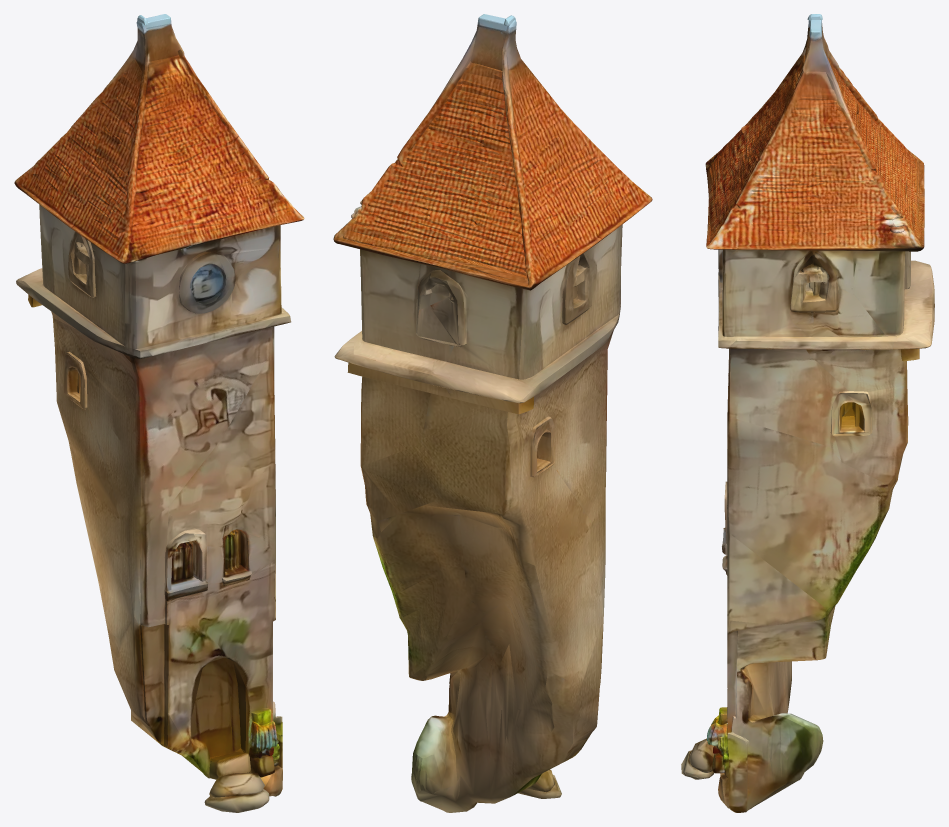
3 views of the same model, side by side, from view 1: azimuth 30°, elevation 25°; view 2: azimuth 150°, elevation 25°; view 3: azimuth 270°, elevation 25° (orthographic). The views are drawn at different scales.
Visible parts, largest first — view 1: model; view 2: model; view 3: model.
Boxes of the visible parts, bbox=[...] form: model: bbox=[14, 14, 304, 812]; model: bbox=[333, 14, 652, 812]; model: bbox=[681, 14, 934, 812].
Size of the model in its own units: 0.4801 by 1.9 by 0.578.
Materials: 1 (1 with a texture image).
